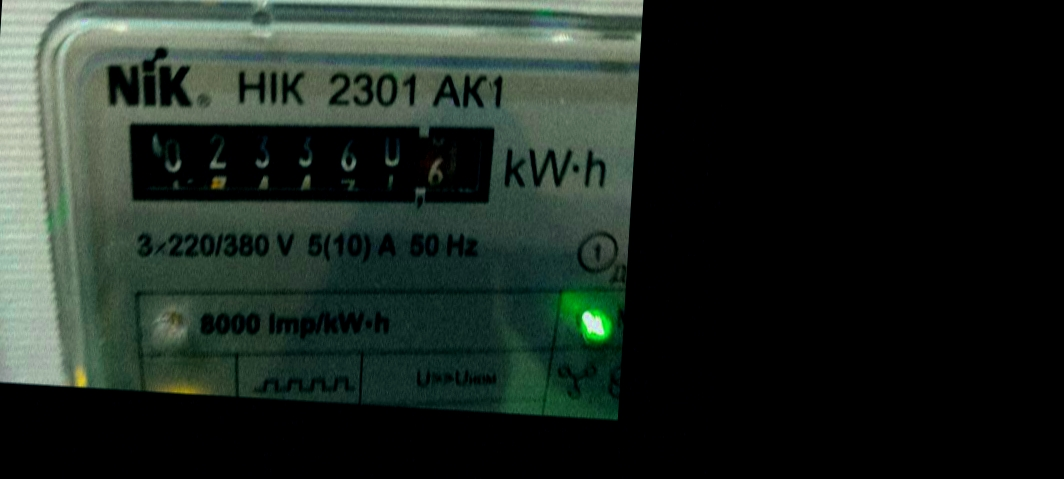0: (157, 132, 185, 175), (378, 130, 403, 168)
2: (202, 128, 230, 170)
3: (249, 129, 272, 170), (291, 130, 315, 169)
6: (333, 132, 361, 175), (424, 152, 447, 189)
screen: (101, 89, 509, 232)
